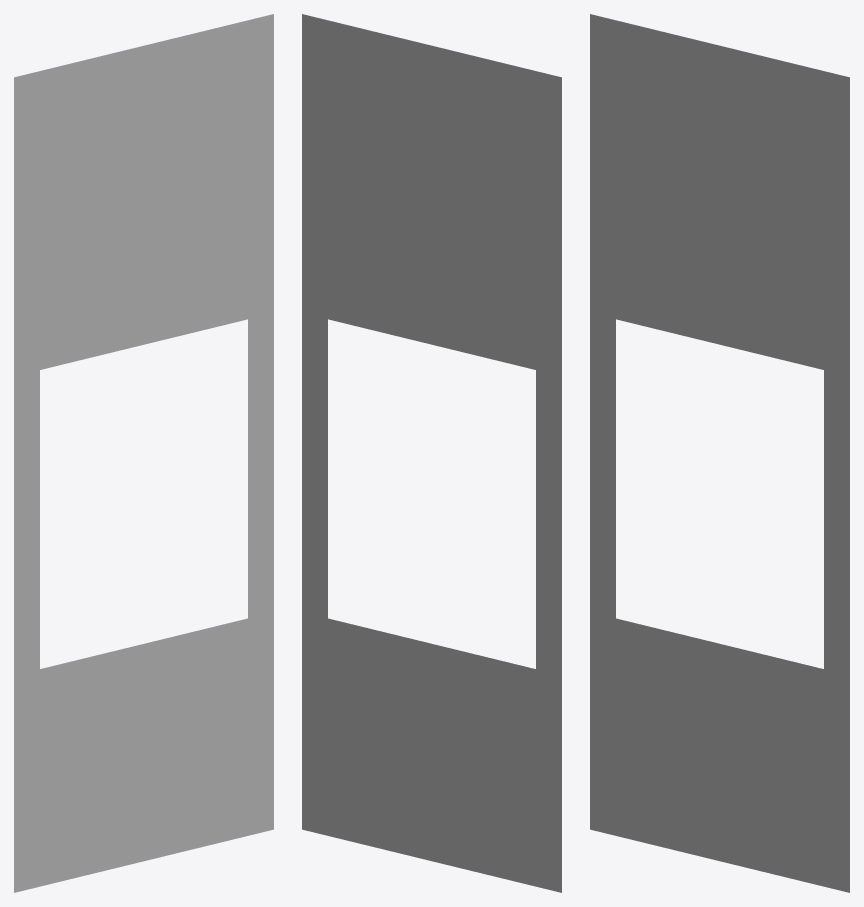
Rendered from WallWindow.fbx.
The picture shows the model from 3 angles, left to right: view 1: azimuth 30°, elevation 25°; view 2: azimuth 150°, elevation 25°; view 3: azimuth 330°, elevation 25°; orthographic projection.
Visible parts, largest first — view 1: WallWindow; view 2: WallWindow; view 3: WallWindow.
Boxes of the visible parts, x1=… form: WallWindow: x1=14, y1=14, x2=273, y2=892; WallWindow: x1=302, y1=14, x2=561, y2=892; WallWindow: x1=590, y1=14, x2=849, y2=892.
Bounding box in the file's own units: 100 × 300 × 3.34e-05.
Materials: 1 (1 with a texture image).
